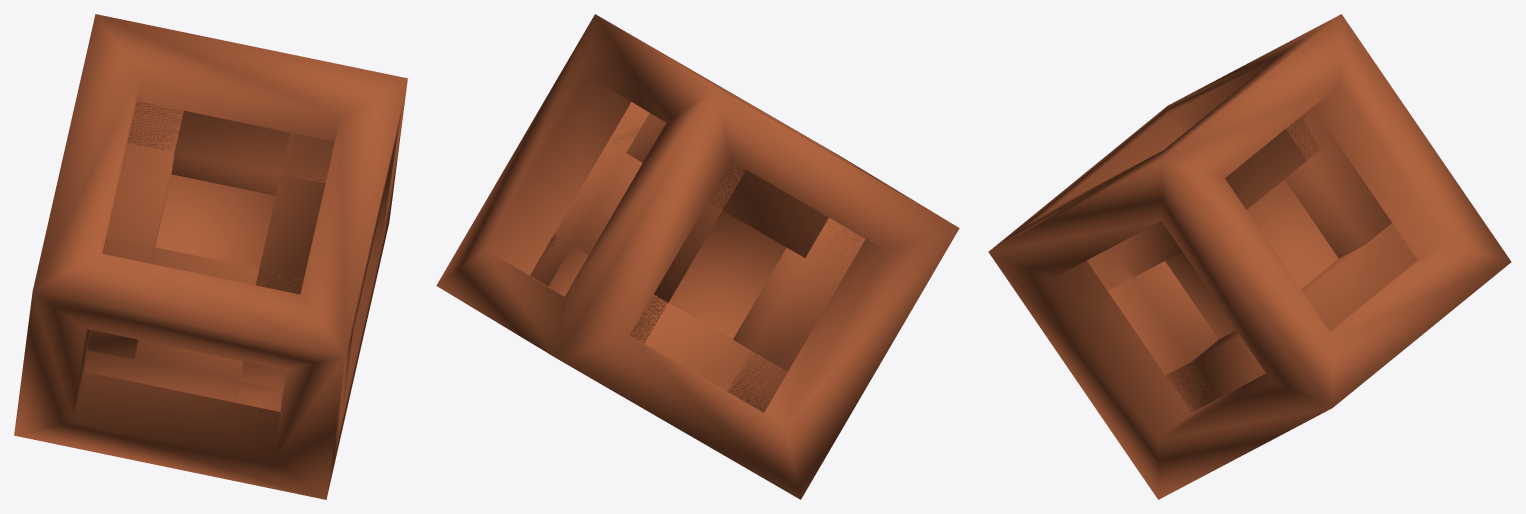
Rendered from figure-3.gltf.
3 renders of one model, left to right at view 1: azimuth 30°, elevation 25°; view 2: azimuth 150°, elevation 25°; view 3: azimuth 270°, elevation 25°, orthographic. The views are drawn at different scales.
Visible parts, largest first — view 1: Cube.004; view 2: Cube.004; view 3: Cube.004.
Part boxes in pixels (<box>): Cube.004: <box>14,14,407,499</box>; Cube.004: <box>436,14,959,499</box>; Cube.004: <box>988,14,1511,499</box>.
Size of the model in its own units: 5.7 by 5.5 by 6.15.
